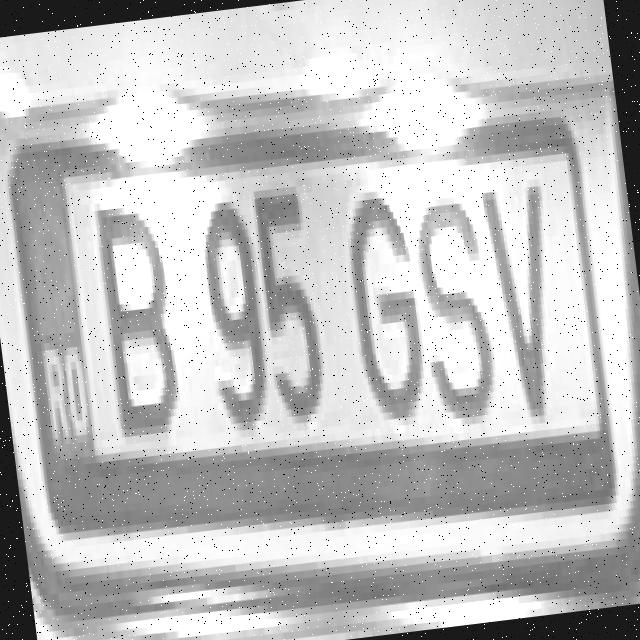EU: (0, 63, 624, 592)
Romanie: (11, 155, 96, 475)
